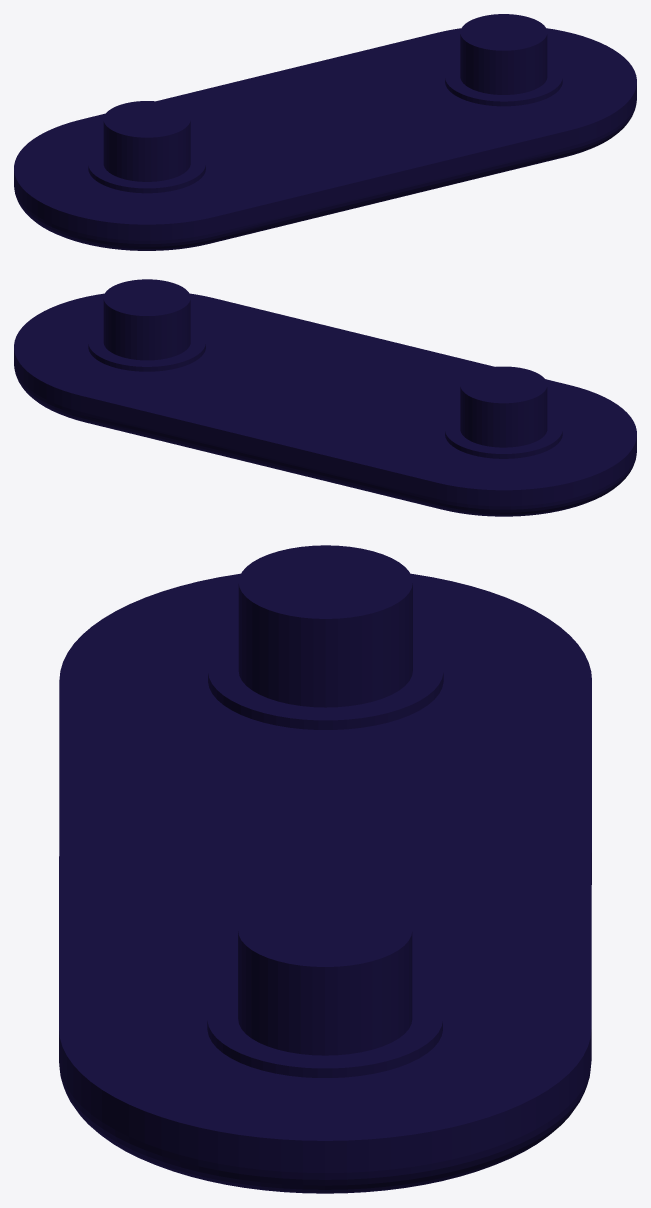
Rendered from top_casing.dae.
3 renders of one model, top to bottom at view 1: azimuth 30°, elevation 25°; view 2: azimuth 150°, elevation 25°; view 3: azimuth 270°, elevation 25°, orthographic. The views are drawn at different scales.
Visible parts, largest first — view 1: Top Casing; view 2: Top Casing; view 3: Top Casing.
Boxes of the visible parts, x1,y1,x2,y2 form: Top Casing: [14, 14, 636, 250]; Top Casing: [14, 279, 636, 516]; Top Casing: [59, 545, 591, 1193].
Size of the model in its own units: 0.0382 by 0.015 by 0.00505.
